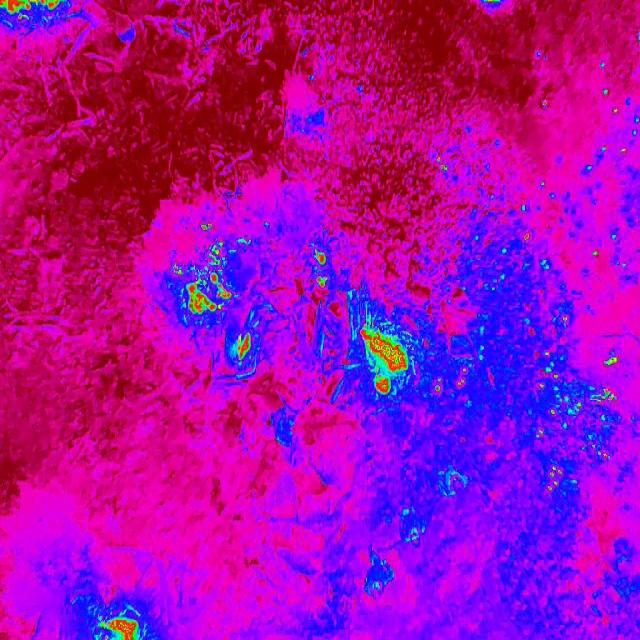fire: (428, 213, 616, 502), (171, 219, 239, 319), (572, 80, 640, 162), (354, 318, 412, 398), (91, 614, 146, 640), (0, 0, 68, 20), (308, 244, 330, 295), (429, 148, 457, 181), (229, 333, 259, 363), (594, 384, 619, 406), (600, 351, 622, 371), (477, 0, 505, 10)
